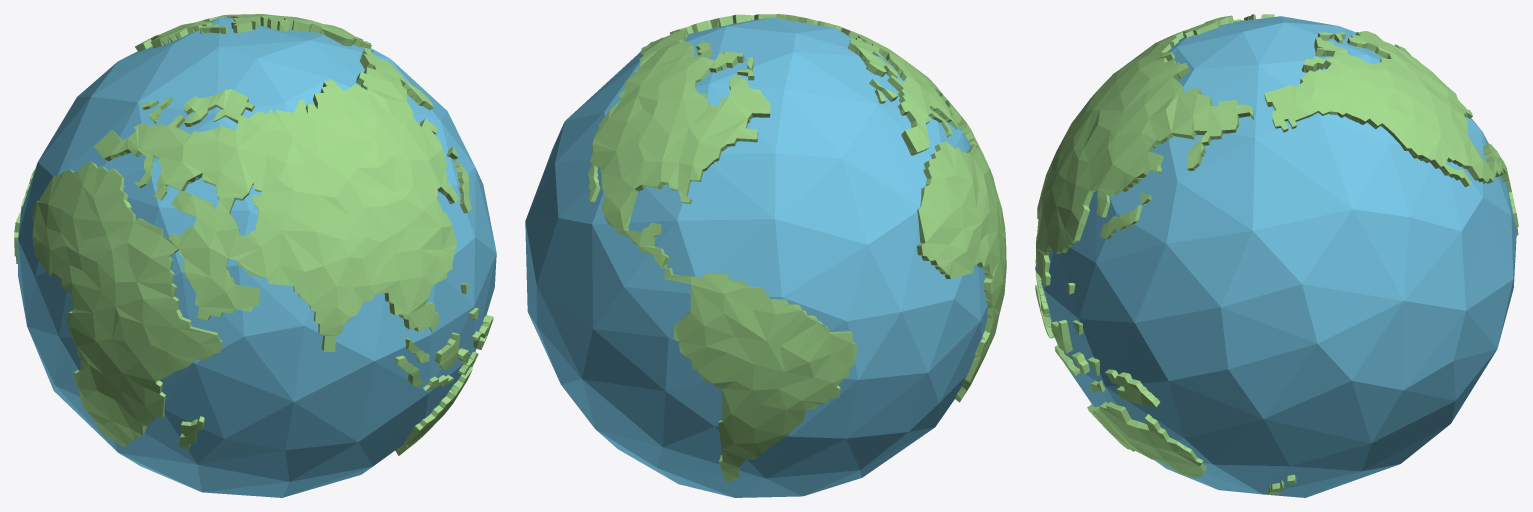
Rendered from earth.fbx.
3 views of the same model, side by side, from view 1: azimuth 30°, elevation 25°; view 2: azimuth 150°, elevation 25°; view 3: azimuth 270°, elevation 25° (orthographic).
Visible parts, largest first — view 1: Low Poly Earth V2; view 2: Low Poly Earth V2; view 3: Low Poly Earth V2.
Boxes of the visible parts, x1=… form: Low Poly Earth V2: x1=14, y1=14, x2=496, y2=497; Low Poly Earth V2: x1=525, y1=14, x2=1006, y2=497; Low Poly Earth V2: x1=1035, y1=14, x2=1518, y2=497.
Bounding box in the file's own units: 20622 × 20729 × 20751.
